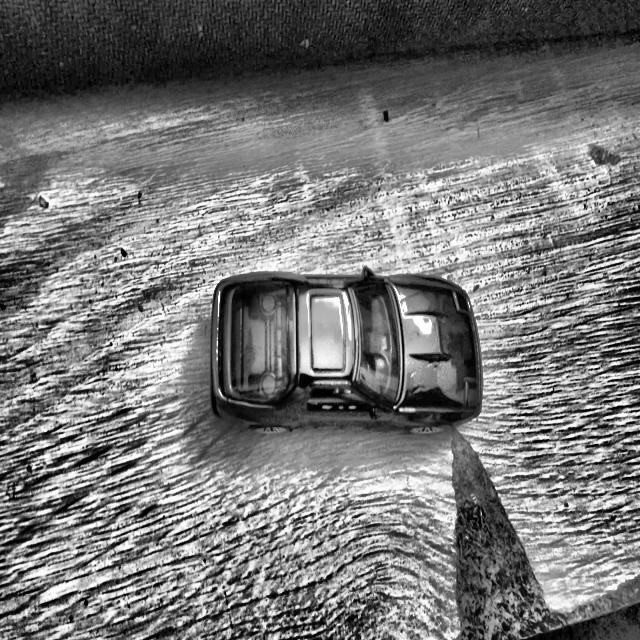car: (209, 267, 483, 432)
